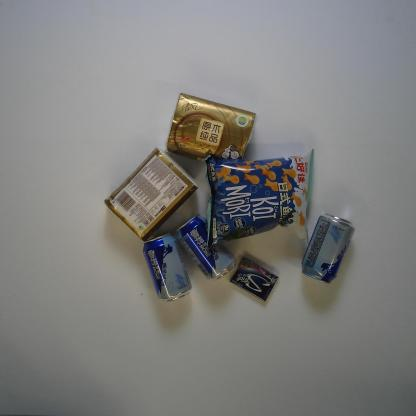Alcohol: (174, 214, 238, 284), (299, 212, 357, 285), (142, 232, 194, 303)
Gum: (229, 255, 280, 301)
Puffed Food: (203, 147, 315, 246)
Tissue: (106, 147, 200, 242), (165, 90, 257, 170)
